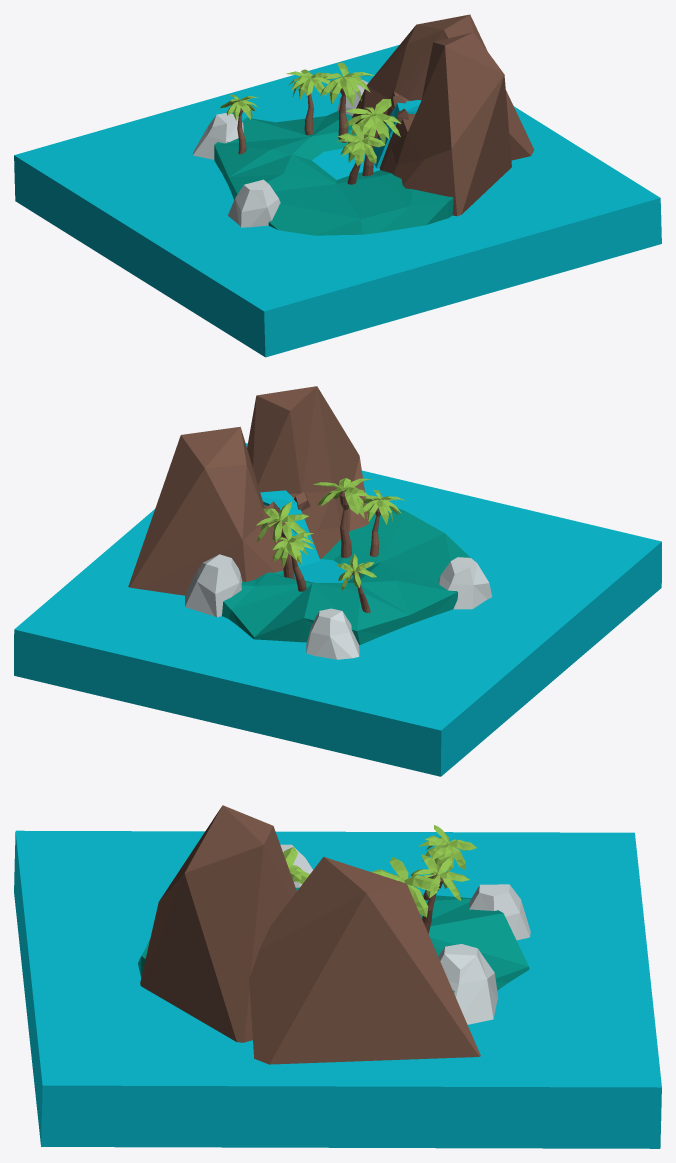
Rendered from island-2.glb.
3 renders of one model, top to bottom at view 1: azimuth 30°, elevation 25°; view 2: azimuth 150°, elevation 25°; view 3: azimuth 270°, elevation 25°, orthographic. The views are drawn at different scales.
Parts seen in each view (by area): view 1: Node; view 2: Node; view 3: Node.
Part boxes in pixels (box(x1,y1,x2,y2)): Node: box(14, 14, 661, 357); Node: box(14, 386, 661, 776); Node: box(14, 805, 661, 1148).
Size of the model in its own units: 2.23 by 1.01 by 2.22.
